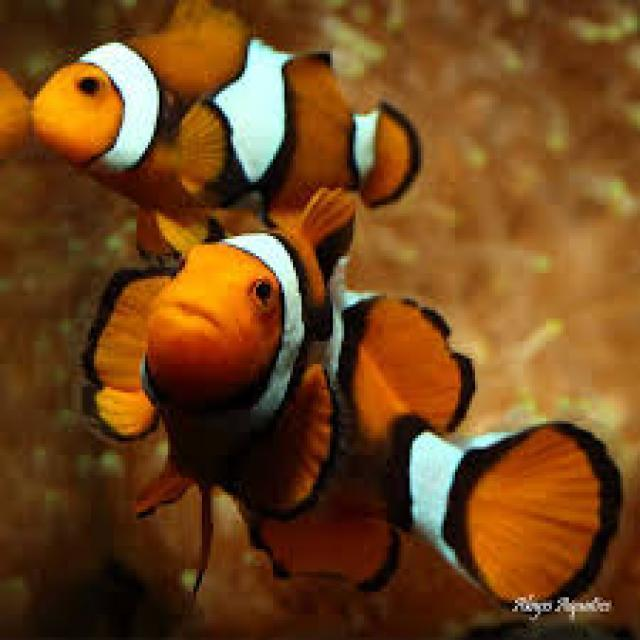ClownFish: (84, 191, 613, 613), (36, 3, 414, 213)
